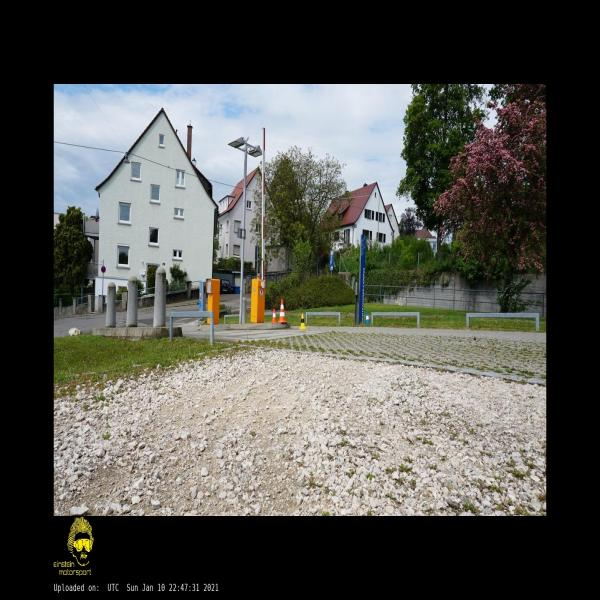blue_cone: (366, 312, 370, 324)
large_orange_cone: (278, 299, 287, 323)
orange_cone: (271, 309, 277, 323)
yellow_cone: (299, 314, 306, 329)
